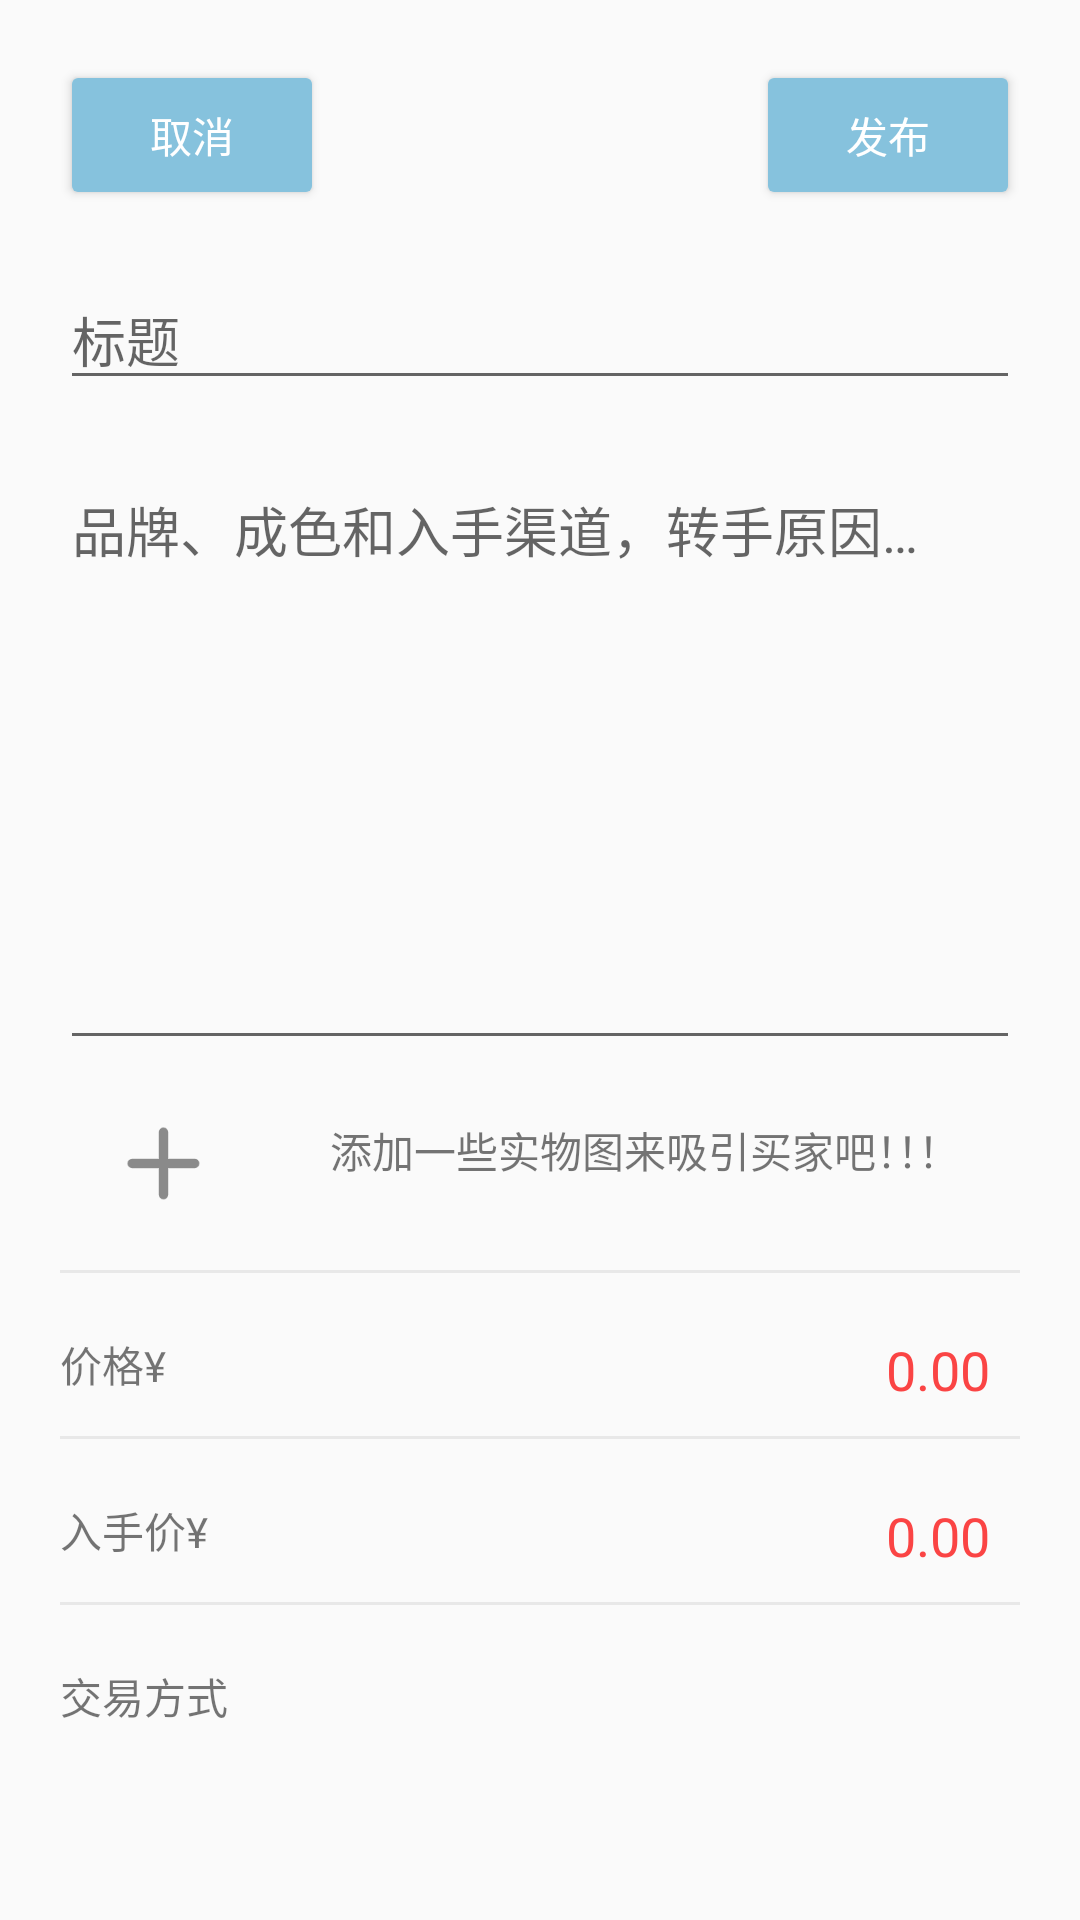

Icons on this 1080x1920 Android screen, each with its box as (x1, y1, x2, y2):
add: (127, 1127, 200, 1200)
